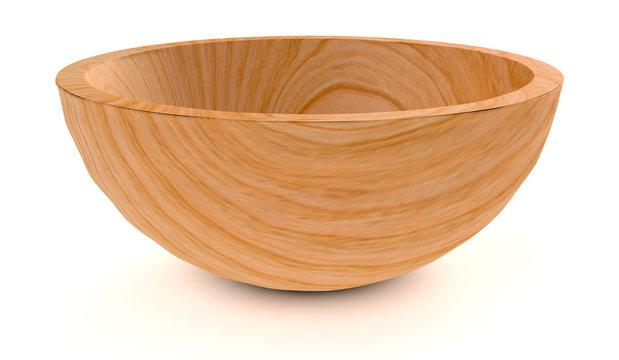bowl: (52, 34, 563, 295)
